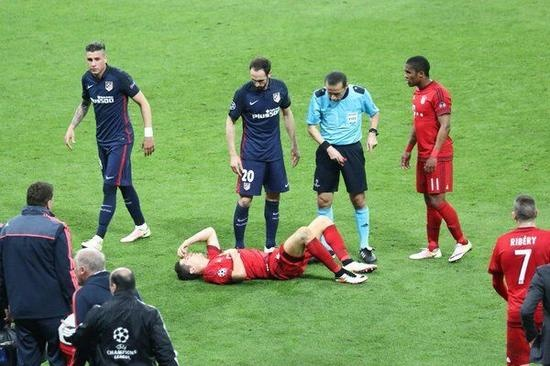falling: (170, 208, 372, 287)
